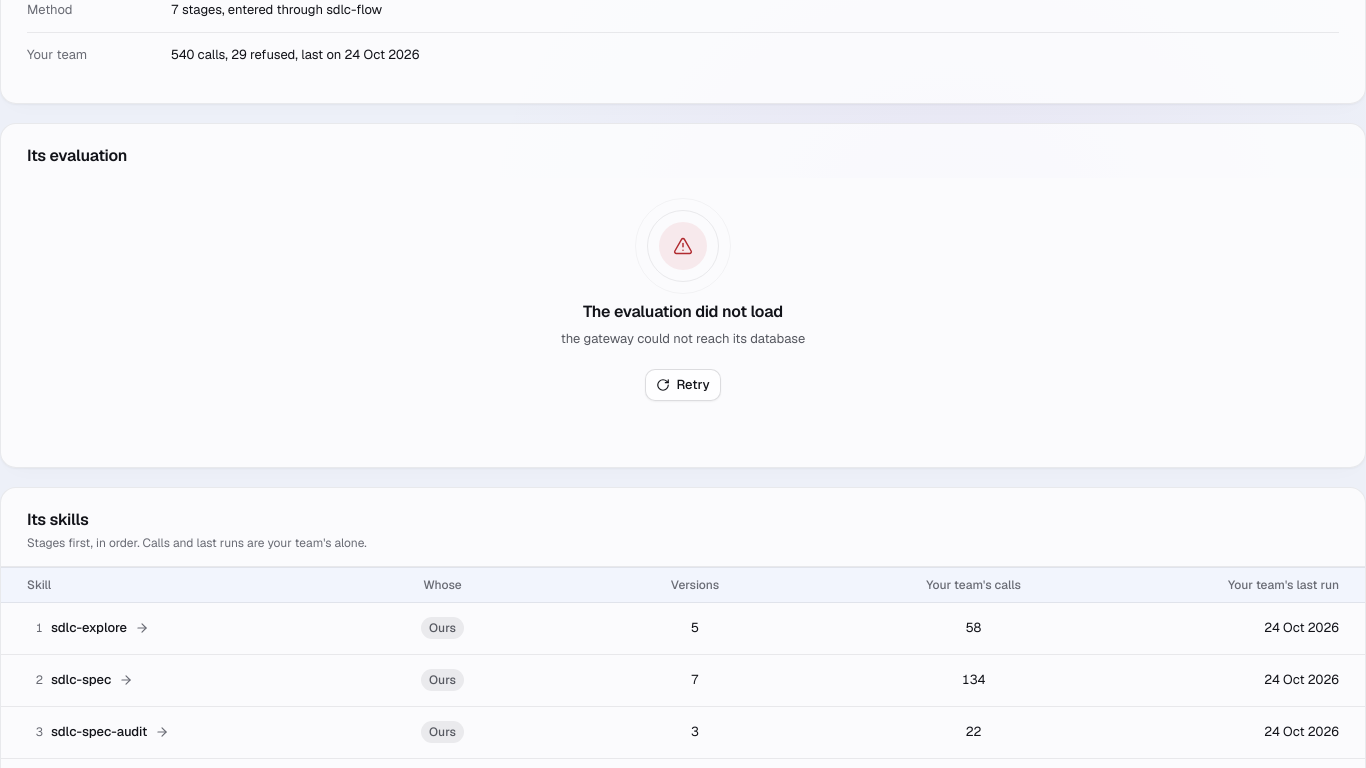
Scenario: a plugin's page › takes a 403 from the browser's own read as the same absence
The image size is (1366, 768).
(page scrolled)
Click the button "Retry". click: {"x": 683, "y": 385}
box: [645,369,721,401]
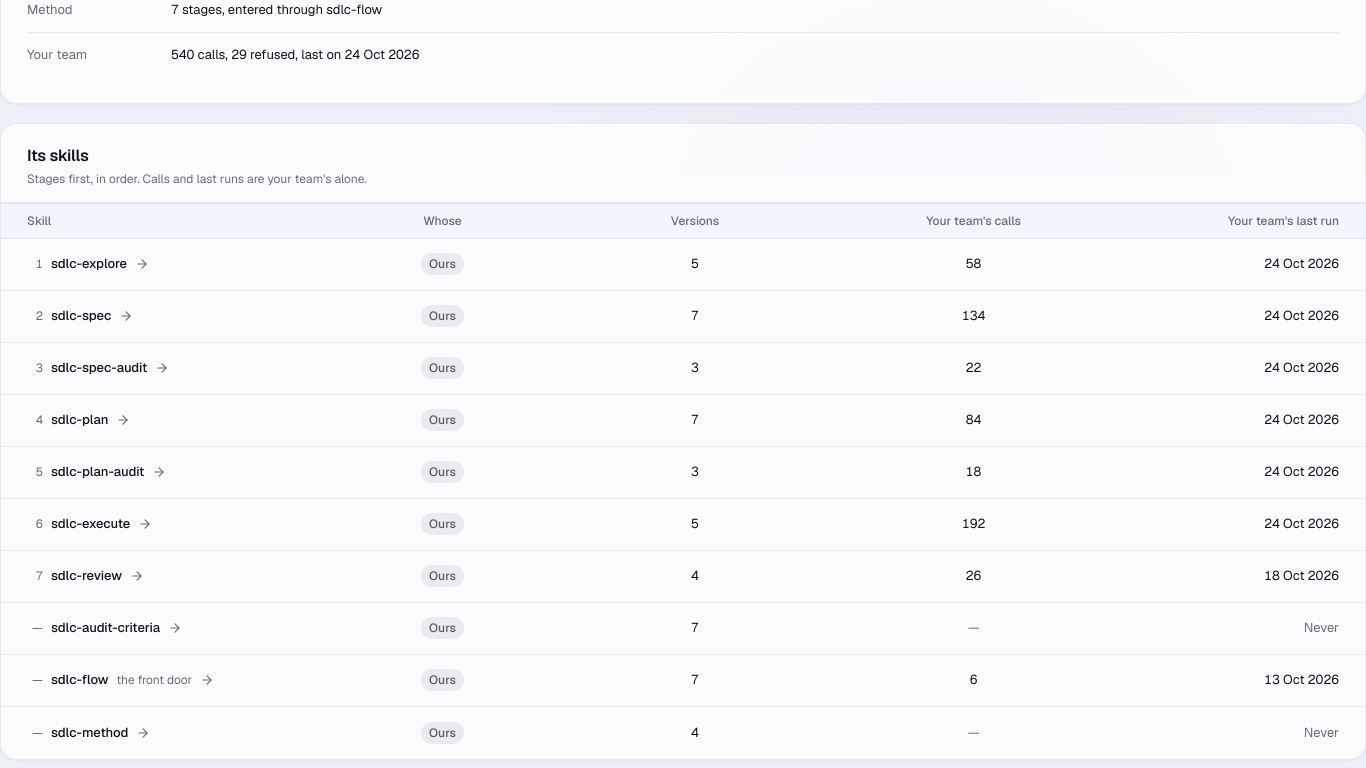
Now the text "The evaluation did not load" is gone
Now the heading "Its evaluation" is gone
